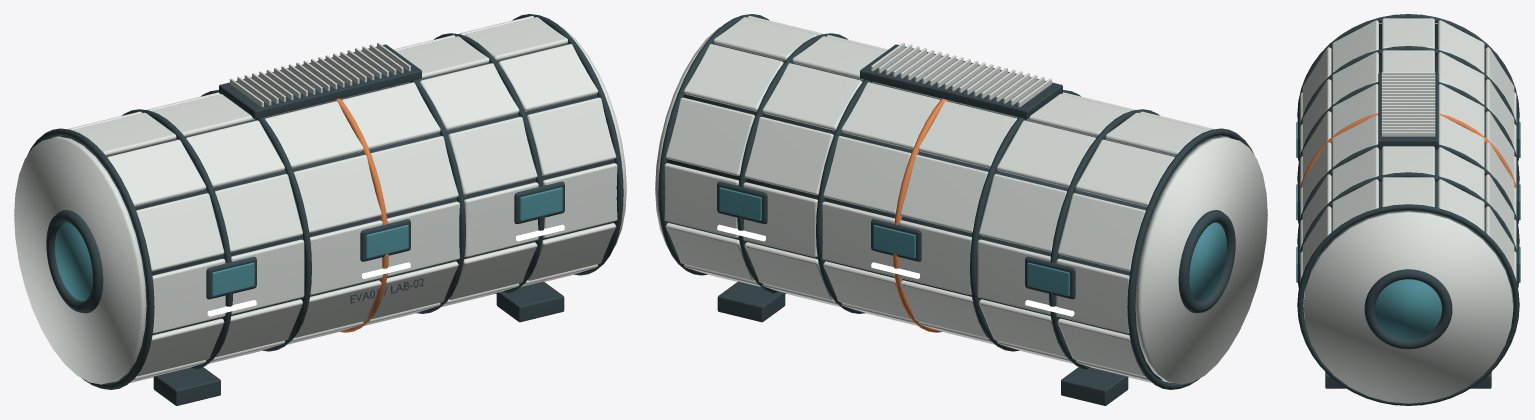
Rendered from eva01-laboratory.glb.
The picture shows the model from 3 angles, left to right: view 1: azimuth 30°, elevation 25°; view 2: azimuth 150°, elevation 25°; view 3: azimuth 270°, elevation 25°; orthographic projection. The views are drawn at different scales.
Visible parts, largest first — view 1: Mamparo estanco, Casco de presión, Panel de aislamiento.053, Panel de aislamiento.065, Panel de aislamiento.005, Panel de aislamiento.017, Panel de aislamiento.041, Panel de aislamiento.029, Panel de aislamiento.064, Panel de aislamiento.052, Panel de aislamiento.004, Panel de aislamiento.016 (+37 smaller); view 2: Mamparo estanco, Casco de presión, Panel de aislamiento.049, Panel de aislamiento.061, Panel de aislamiento.001, Panel de aislamiento.013, Panel de aislamiento.037, Panel de aislamiento.025, Panel de aislamiento.062, Panel de aislamiento.050, Panel de aislamiento.002, Panel de aislamiento.014 (+37 smaller); view 3: Mamparo estanco.001, Costilla estructural.006, Escotilla circular.001, Acoplamiento presurizado.001, Casco de presión, Panel de aislamiento.003, Panel de aislamiento.063, Panel de aislamiento.051, Panel de aislamiento.002, Panel de aislamiento.004, Panel de aislamiento.014, Panel de aislamiento.016 (+30 smaller).
Part boxes in pixels (bbox=[...]): Mamparo estanco: bbox=[14, 136, 146, 384]; Casco de presión: bbox=[60, 44, 614, 380]; Panel de aislamiento.053: bbox=[448, 117, 537, 195]; Panel de aislamiento.065: bbox=[526, 97, 616, 175]; Panel de aislamiento.005: bbox=[136, 193, 224, 271]; Panel de aislamiento.017: bbox=[215, 174, 302, 252]; Panel de aislamiento.041: bbox=[370, 136, 458, 214]; Panel de aislamiento.029: bbox=[293, 154, 381, 233]; Panel de aislamiento.064: bbox=[498, 44, 598, 111]; Panel de aislamiento.052: bbox=[419, 63, 519, 130]; Panel de aislamiento.004: bbox=[107, 139, 206, 206]; Panel de aislamiento.016: bbox=[186, 120, 284, 187]; Mamparo estanco: bbox=[1135, 136, 1267, 384]; Casco de presión: bbox=[667, 44, 1221, 380]; Panel de aislamiento.049: bbox=[744, 117, 833, 195]; Panel de aislamiento.061: bbox=[665, 97, 755, 175]; Panel de aislamiento.001: bbox=[1057, 193, 1145, 271]; Panel de aislamiento.013: bbox=[979, 174, 1066, 252]; Panel de aislamiento.037: bbox=[823, 136, 911, 214]; Panel de aislamiento.025: bbox=[900, 154, 988, 233]; Panel de aislamiento.062: bbox=[683, 44, 783, 111]; Panel de aislamiento.050: bbox=[762, 63, 862, 130]; Panel de aislamiento.002: bbox=[1075, 139, 1174, 206]; Panel de aislamiento.014: bbox=[997, 120, 1095, 187]; Mamparo estanco.001: bbox=[1303, 211, 1513, 403]; Costilla estructural.006: bbox=[1297, 204, 1519, 405]; Escotilla circular.001: bbox=[1375, 279, 1441, 339]; Acoplamiento presurizado.001: bbox=[1364, 269, 1452, 349]; Casco de presión: bbox=[1303, 23, 1513, 304]; Panel de aislamiento.003: bbox=[1382, 18, 1434, 48]; Panel de aislamiento.063: bbox=[1382, 177, 1434, 207]; Panel de aislamiento.051: bbox=[1382, 146, 1434, 175]; Panel de aislamiento.002: bbox=[1438, 20, 1484, 72]; Panel de aislamiento.004: bbox=[1332, 20, 1378, 72]; Panel de aislamiento.014: bbox=[1438, 52, 1484, 104]; Panel de aislamiento.016: bbox=[1332, 52, 1378, 104].
Bounding box in the file's own units: 14.3 × 6.85 × 6.68.
